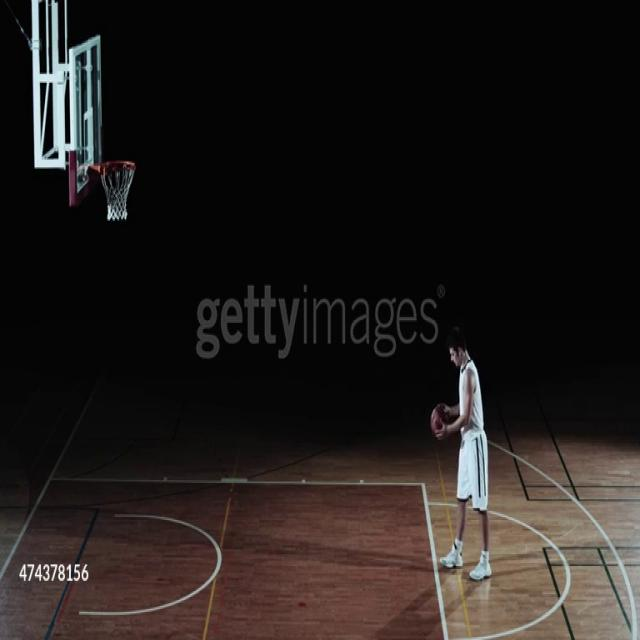ball: (429, 403, 454, 440)
